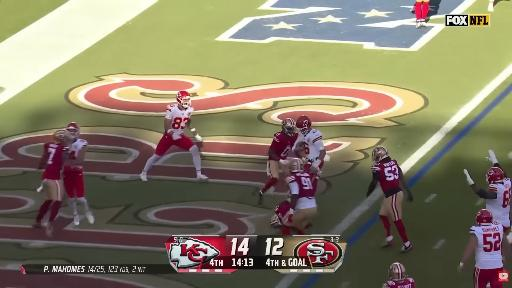Helmet: (486, 167, 505, 184), (389, 263, 406, 280), (296, 116, 311, 135), (372, 146, 388, 163), (476, 209, 492, 225), (54, 129, 71, 143), (282, 118, 295, 135), (66, 123, 79, 139), (177, 91, 190, 107), (289, 158, 303, 171), (271, 215, 281, 227)
Jersey: (470, 223, 503, 269), (487, 178, 511, 227), (372, 159, 401, 197), (287, 171, 316, 209), (294, 129, 324, 162), (42, 143, 68, 179), (166, 104, 193, 135), (270, 132, 298, 159), (69, 139, 87, 159), (275, 201, 290, 223), (383, 278, 414, 287)
Player: (140, 91, 207, 181), (367, 147, 413, 252), (33, 130, 71, 236), (464, 150, 511, 232), (459, 210, 509, 287), (259, 118, 298, 204), (63, 123, 94, 225), (282, 158, 317, 235), (294, 116, 326, 189), (383, 263, 414, 287), (271, 198, 290, 228), (271, 198, 290, 227), (414, 0, 429, 28), (488, 0, 494, 11)
